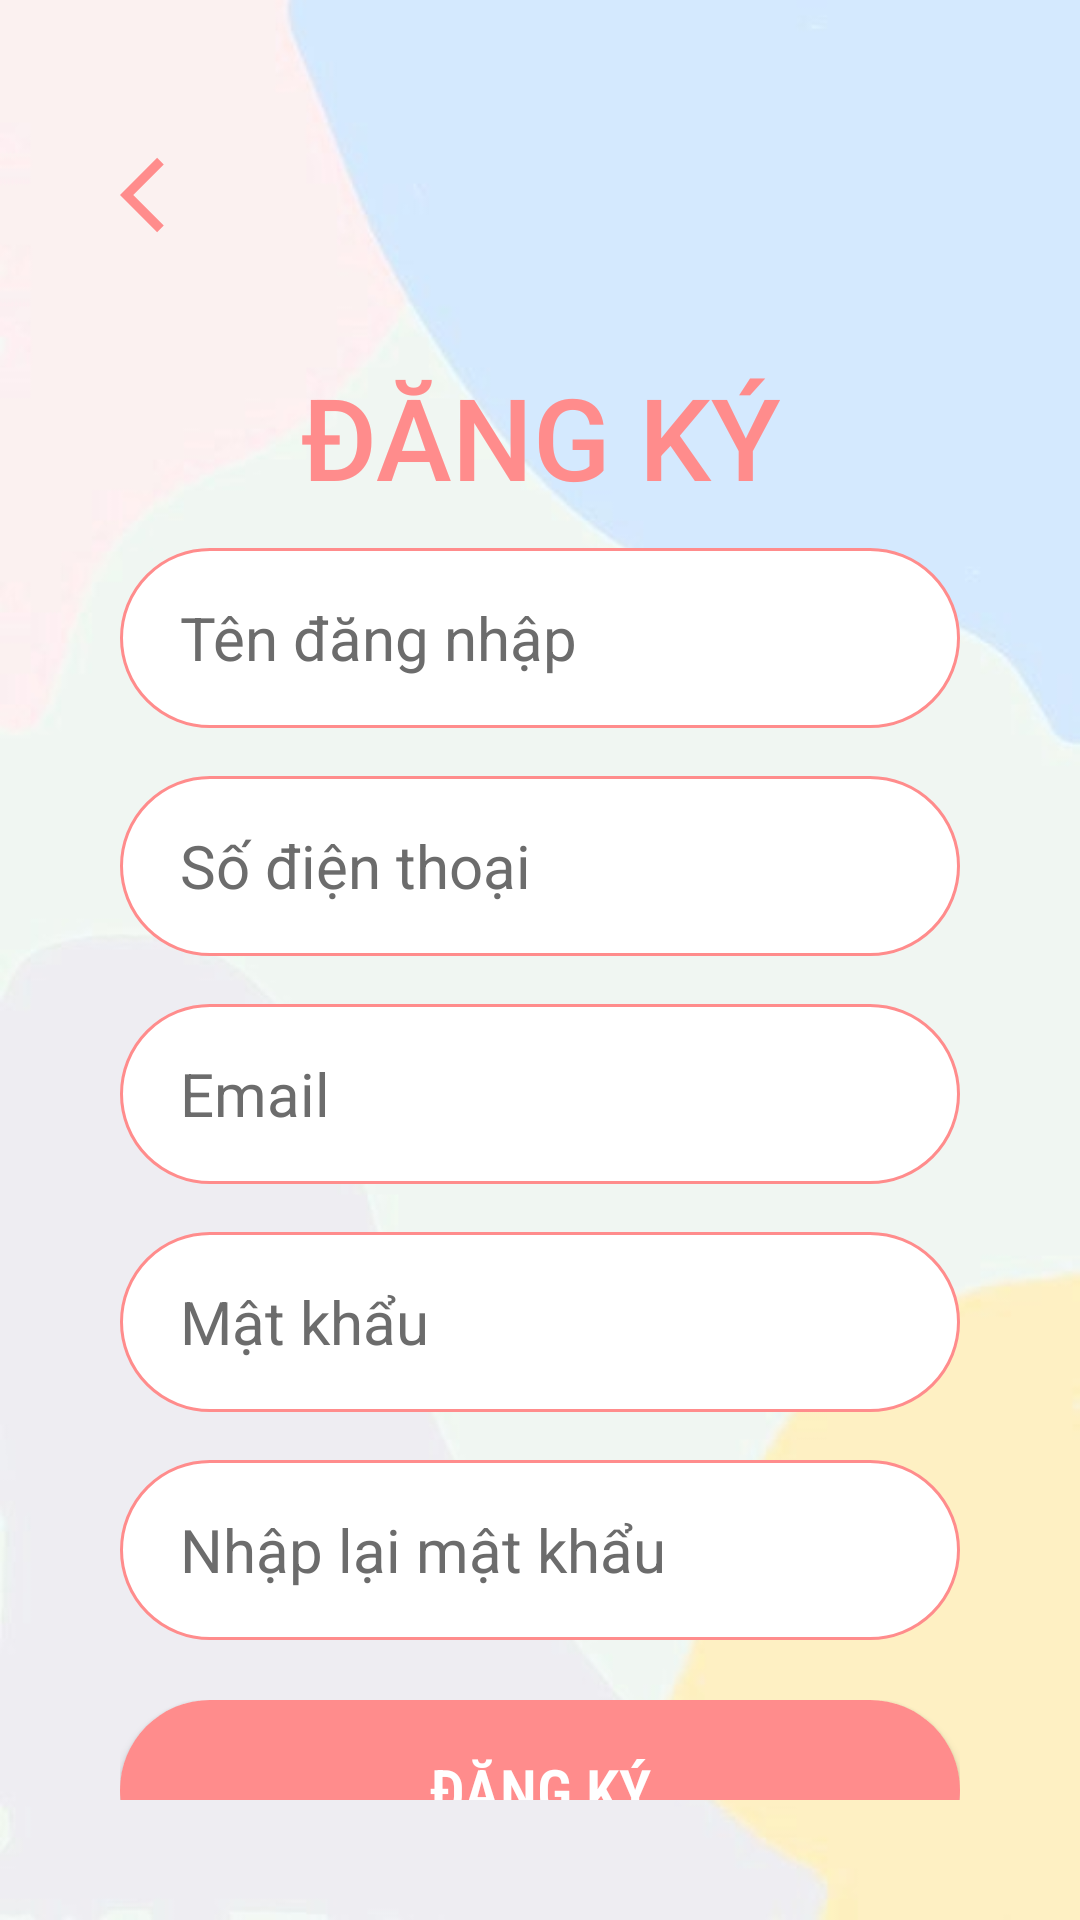

Point at icon controls on the screen. Image size 1080px x 1920px, points as (x,y).
arrow back: (142,195)
